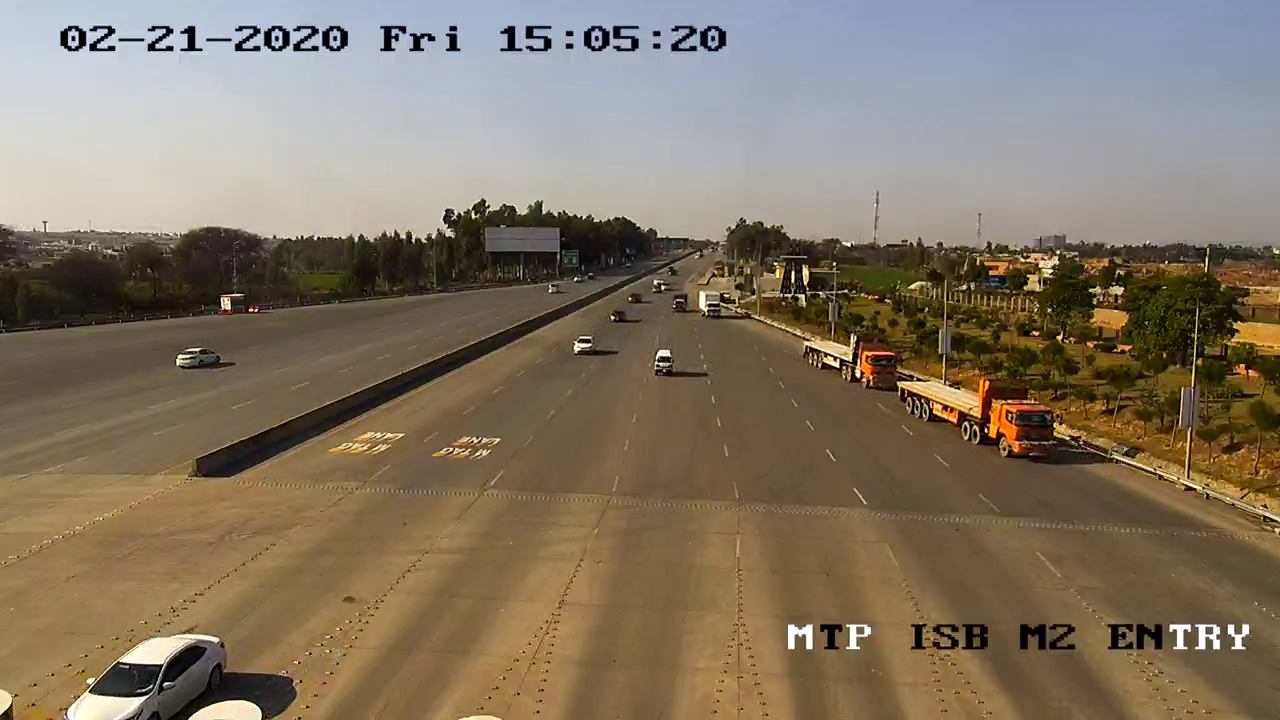f1: (646, 339, 682, 386), (568, 326, 597, 366)
f6: (894, 354, 1066, 474), (789, 321, 905, 392)
